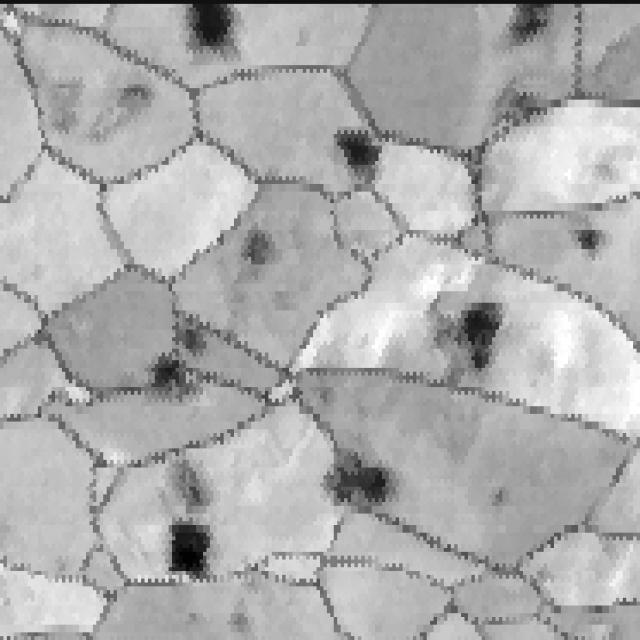good_void: (53, 75, 151, 145), (432, 302, 500, 386), (326, 452, 389, 507), (158, 457, 216, 510), (165, 522, 209, 574), (192, 3, 242, 45), (239, 226, 273, 280), (153, 357, 202, 393), (338, 131, 381, 169), (506, 5, 556, 32), (487, 480, 517, 506), (312, 379, 336, 403), (228, 609, 253, 631), (179, 326, 205, 347), (579, 228, 604, 248)
